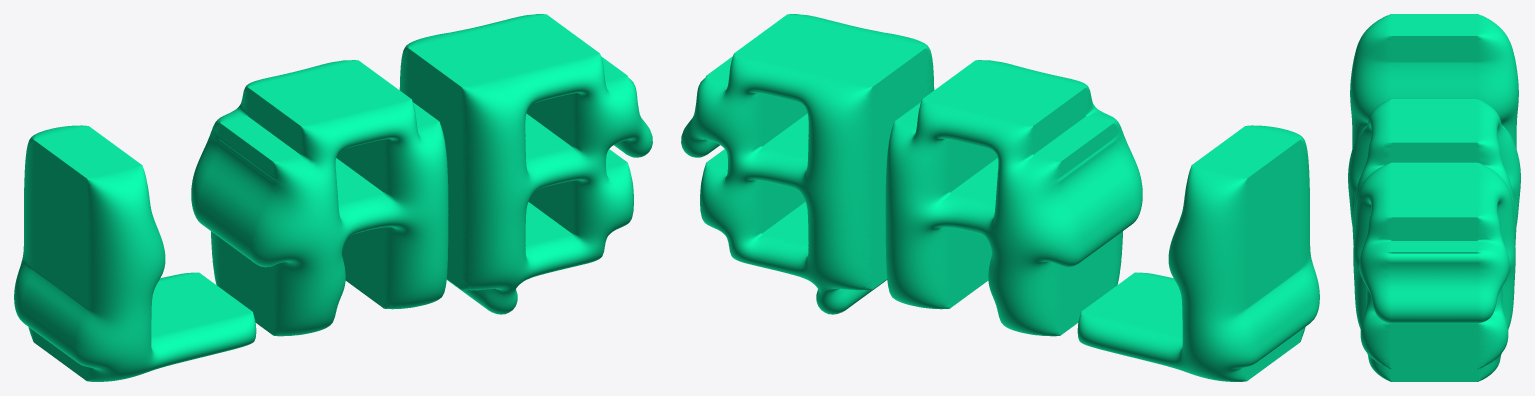
Rendered from LAB-Snot.gltf.
3 views of the same model, side by side, from view 1: azimuth 30°, elevation 25°; view 2: azimuth 150°, elevation 25°; view 3: azimuth 270°, elevation 25° (orthographic). The views are drawn at different scales.
Bounding box in the file's own units: 0.0624 × 0.0243 × 0.02.
